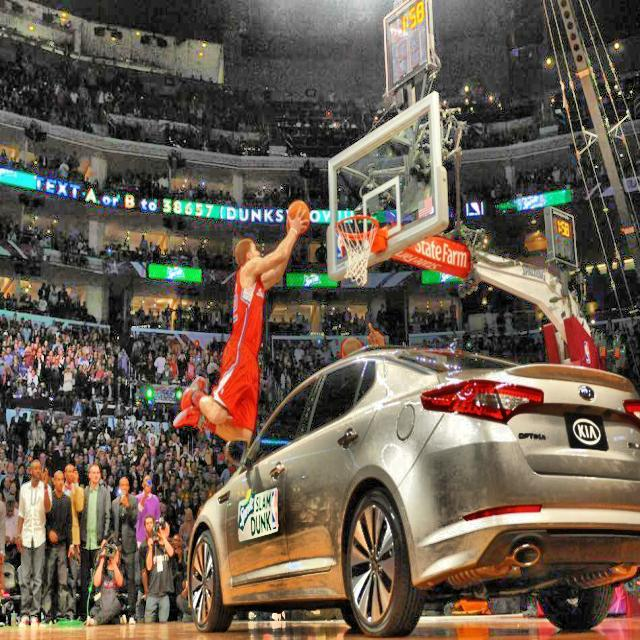rim: (332, 216, 380, 284)
